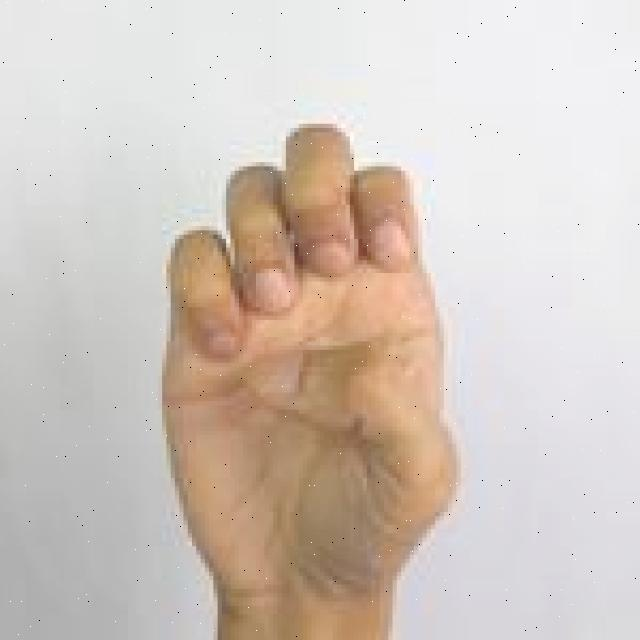E: (155, 120, 468, 640)
